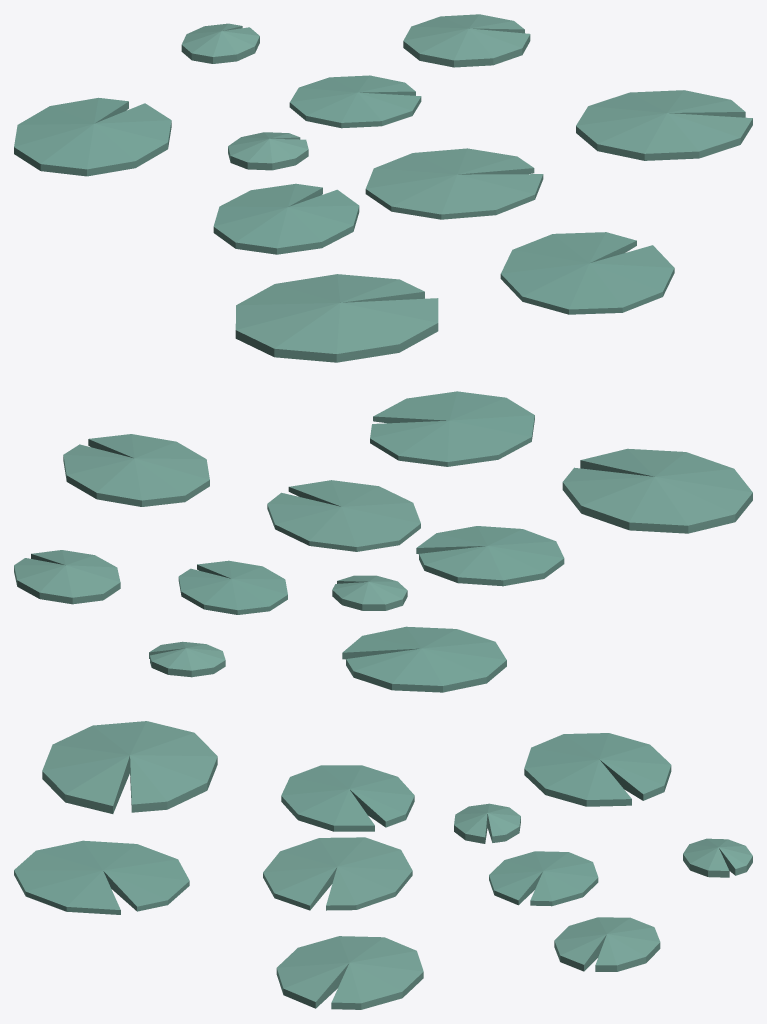
Rendered from lily_pads_wide.glb.
The picture shows the model from 3 angles, top to bottom: view 1: azimuth 30°, elevation 25°; view 2: azimuth 150°, elevation 25°; view 3: azimuth 270°, elevation 25°; orthographic projection. The views are drawn at different scales.
Visible parts, largest first — view 1: Water Lily Multi_2_C; view 2: Water Lily Multi_2_C; view 3: Water Lily Multi_2_C.
Part boxes in pixels (x1,y1,x2,y2): Water Lily Multi_2_C: (14, 14, 752, 362); Water Lily Multi_2_C: (14, 391, 752, 692); Water Lily Multi_2_C: (14, 721, 752, 1009).
Bounding box in the file's own units: 1.34 × 0.04 × 1.49.
Materials: 1 (1 with a texture image).
